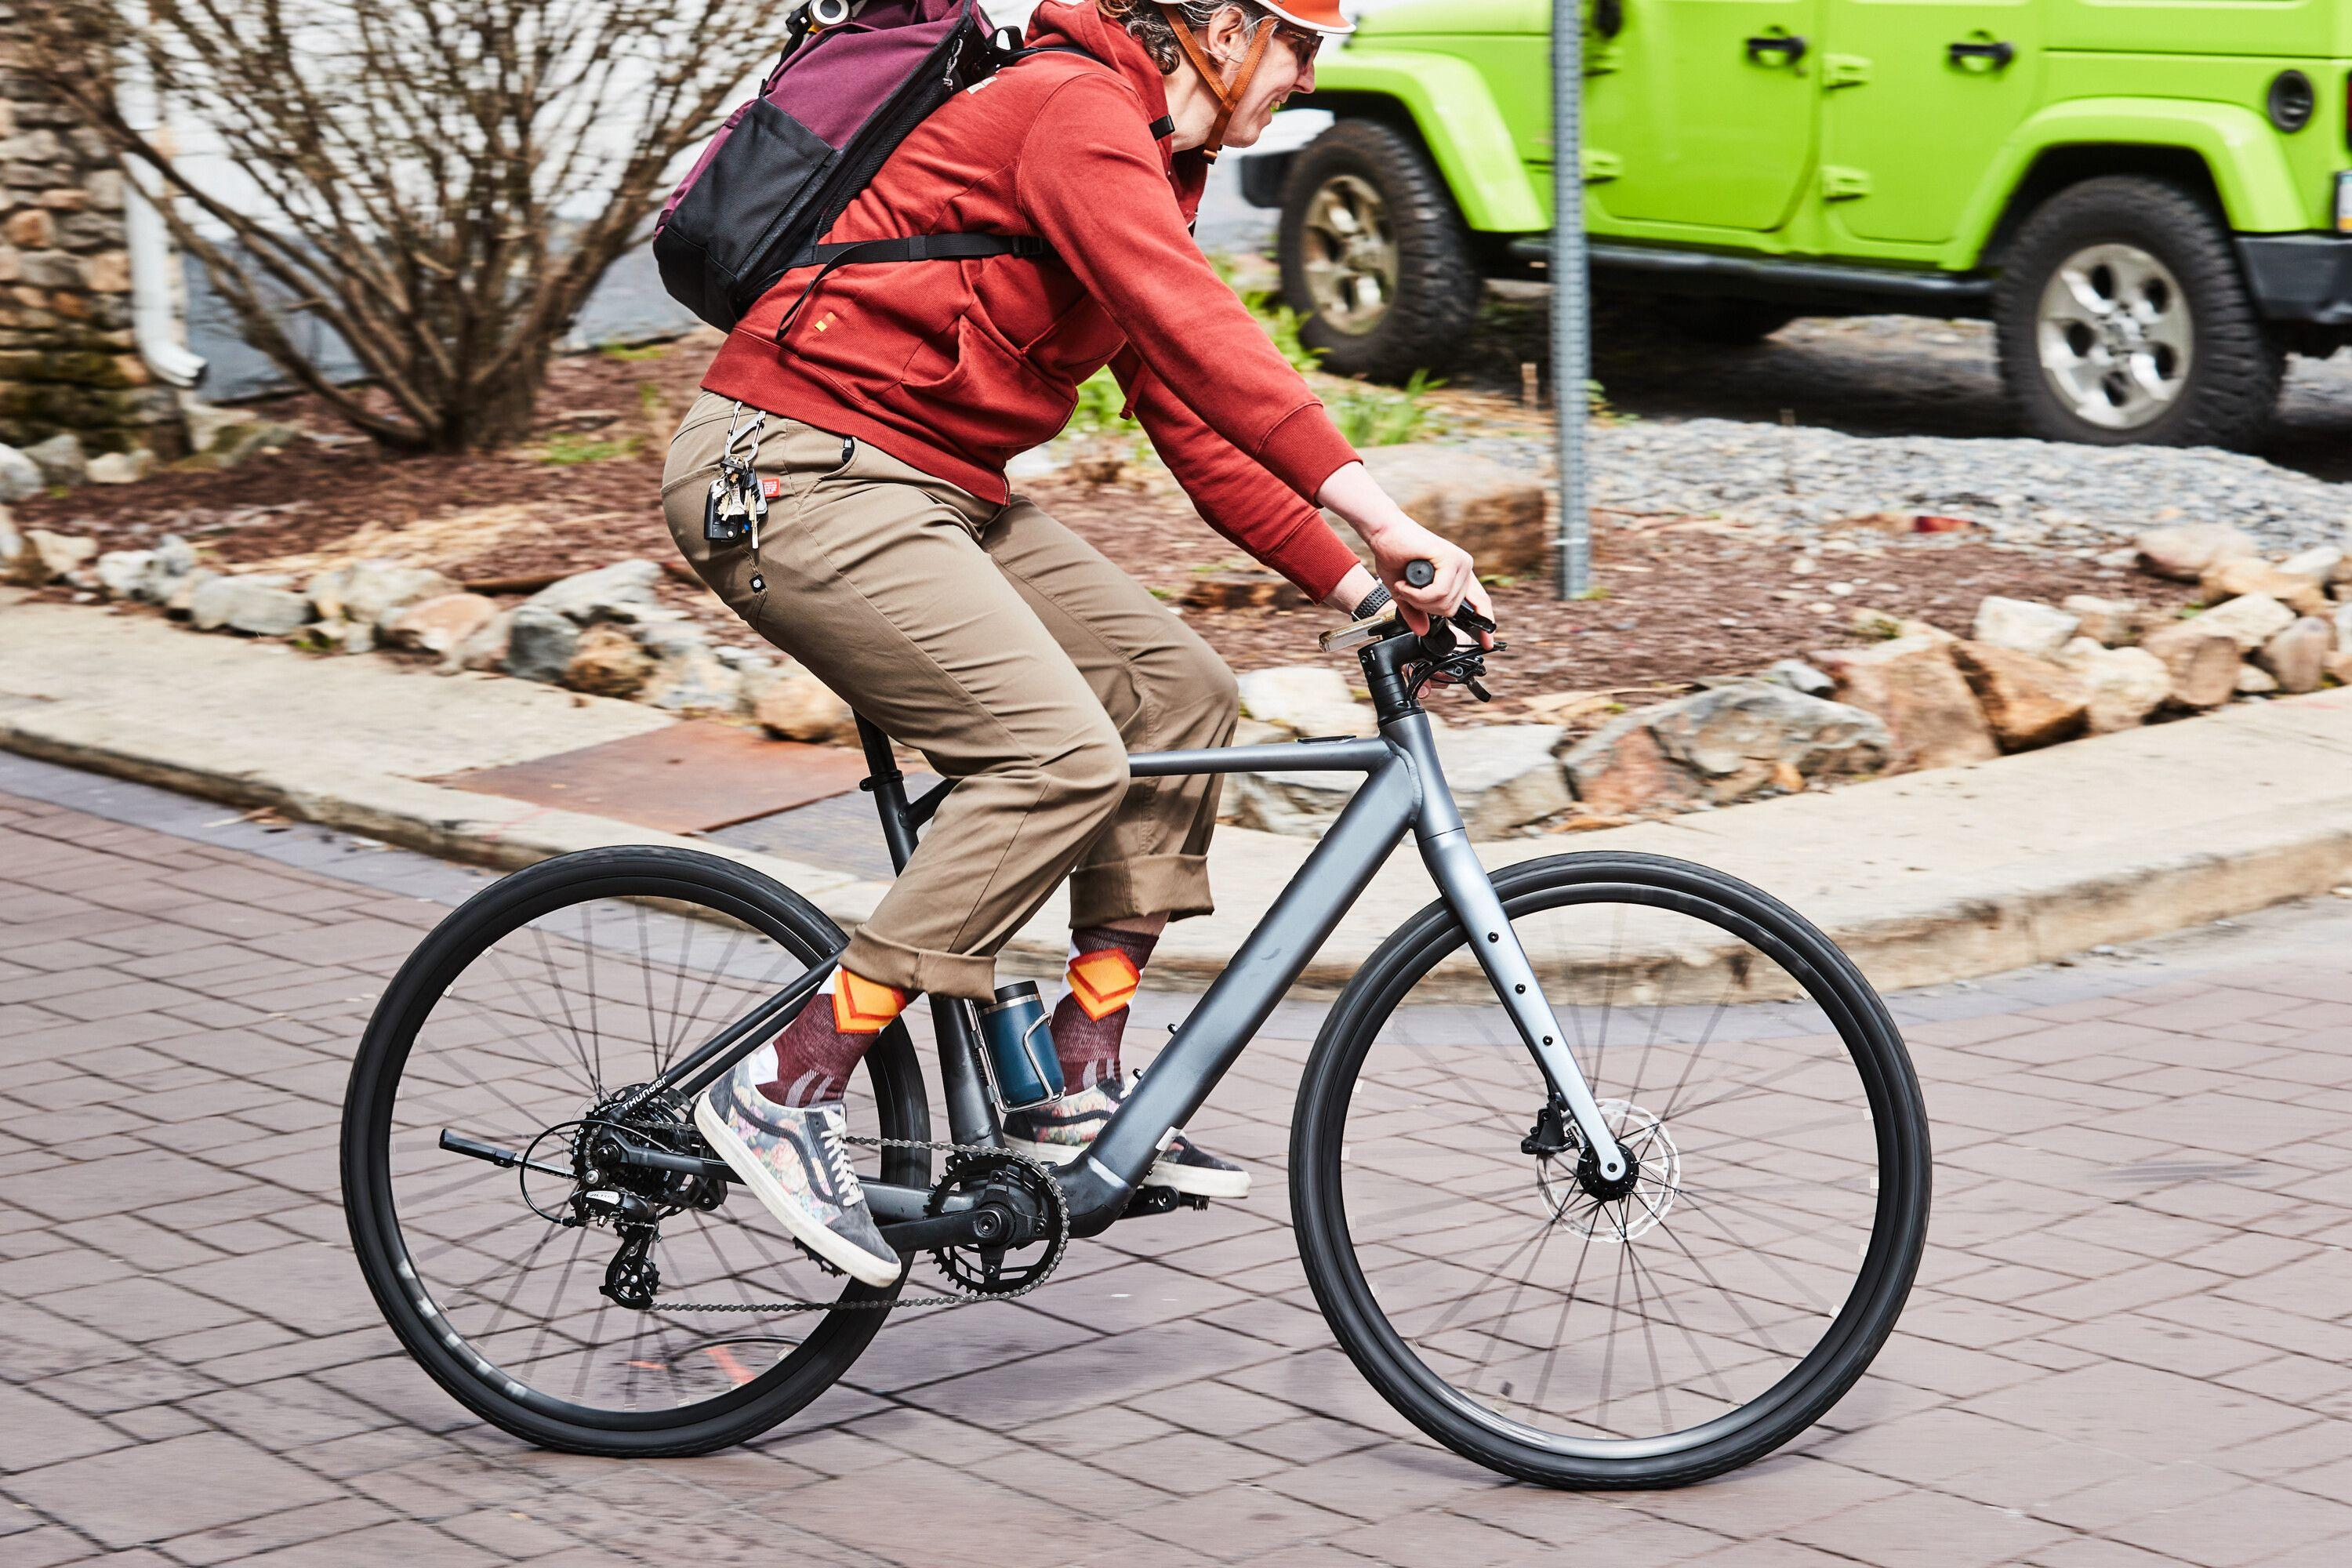bicycle: (329, 528, 1946, 1502)
